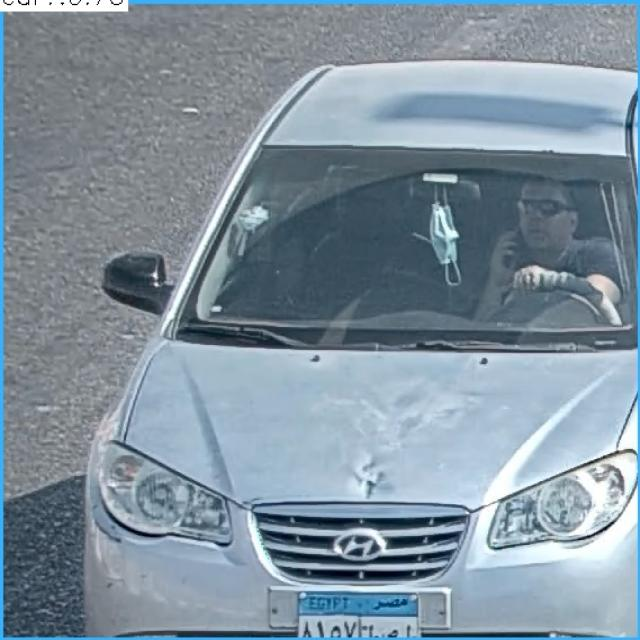windshield: (189, 145, 633, 342)
